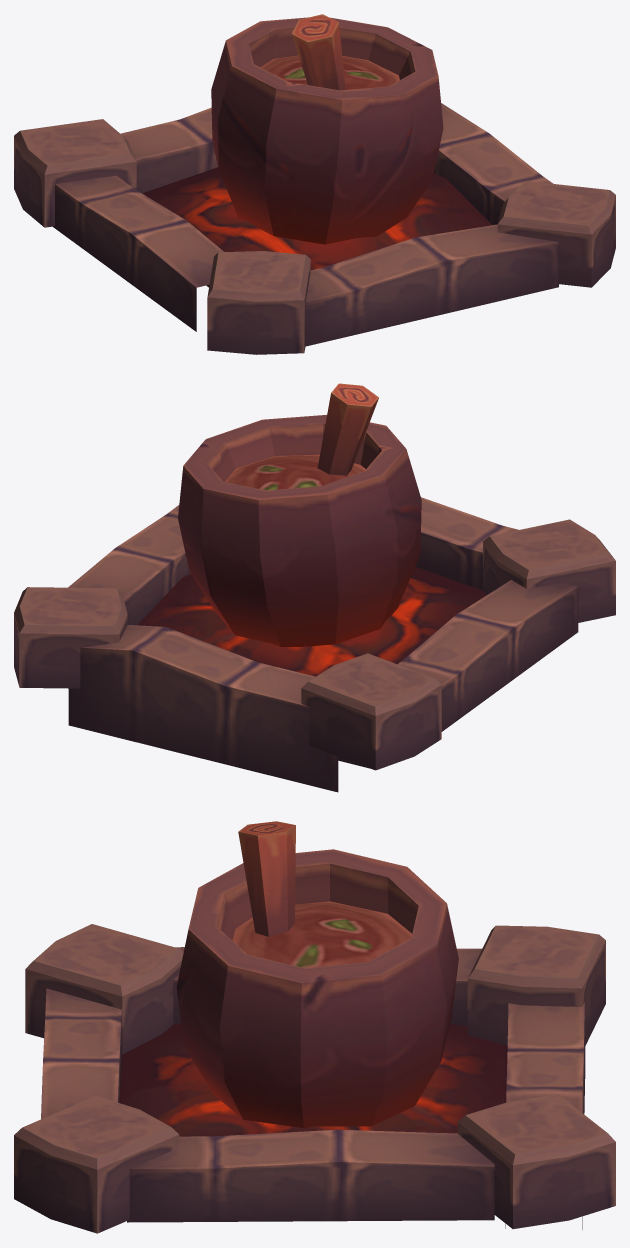
Rendered from 가마솥.fbx.
3 renders of one model, top to bottom at view 1: azimuth 30°, elevation 25°; view 2: azimuth 150°, elevation 25°; view 3: azimuth 270°, elevation 25°, orthographic. The views are drawn at different scales.
Visible parts, largest first — view 1: 가마솥; view 2: 가마솥; view 3: 가마솥.
Boxes of the visible parts, box(x1,y1,x2,y2) form: 가마솥: box(14, 14, 615, 354); 가마솥: box(14, 383, 615, 792); 가마솥: box(14, 821, 615, 1233).
Bounding box in the file's own units: 3.76 × 2.34 × 3.96.
Materials: 1 (1 with a texture image).
